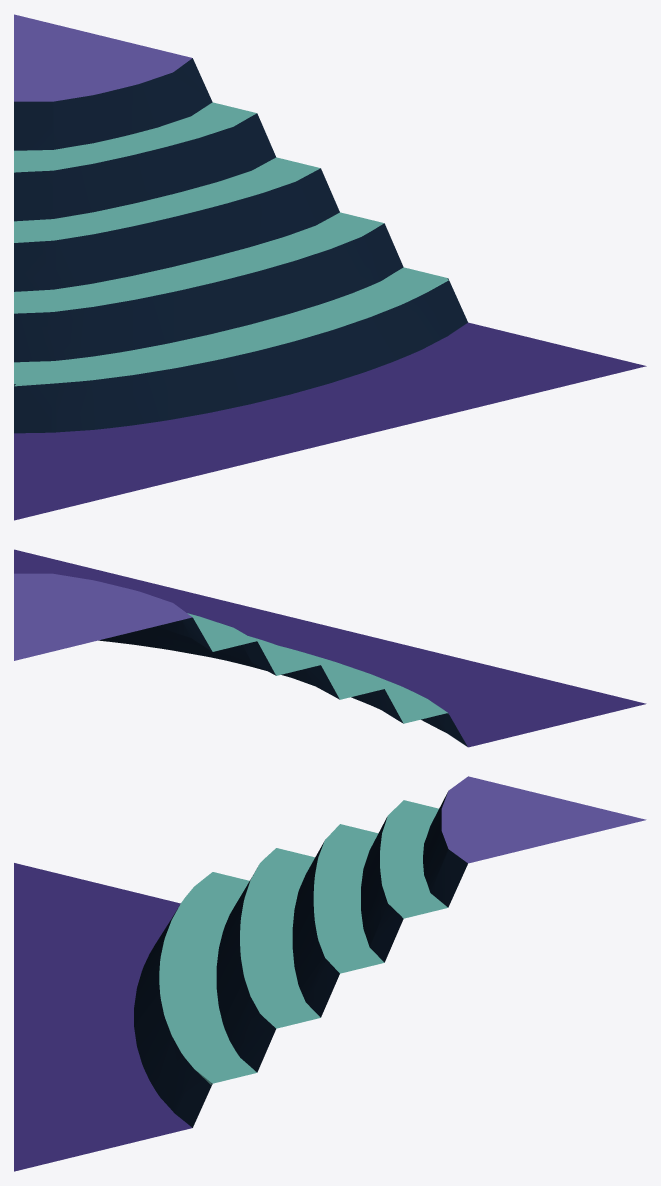
Rendered from MODULE_ALIEN_STAIRS_CORNER_2.fbx.
3 views of the same model, one above another, from view 1: azimuth 30°, elevation 25°; view 2: azimuth 150°, elevation 25°; view 3: azimuth 270°, elevation 25° (orthographic).
Parts seen in each view (by area): view 1: MODULE_ALIEN_STAIRS_CORNER_2__export; view 2: MODULE_ALIEN_STAIRS_CORNER_2__export; view 3: MODULE_ALIEN_STAIRS_CORNER_2__export.
Part boxes in pixels (box(x1,y1,x2,y2)): MODULE_ALIEN_STAIRS_CORNER_2__export: box(14, 14, 646, 520); MODULE_ALIEN_STAIRS_CORNER_2__export: box(14, 549, 646, 747); MODULE_ALIEN_STAIRS_CORNER_2__export: box(14, 776, 646, 1171).
Bounding box in the file's own units: 100 × 29.78 × 86.6.
